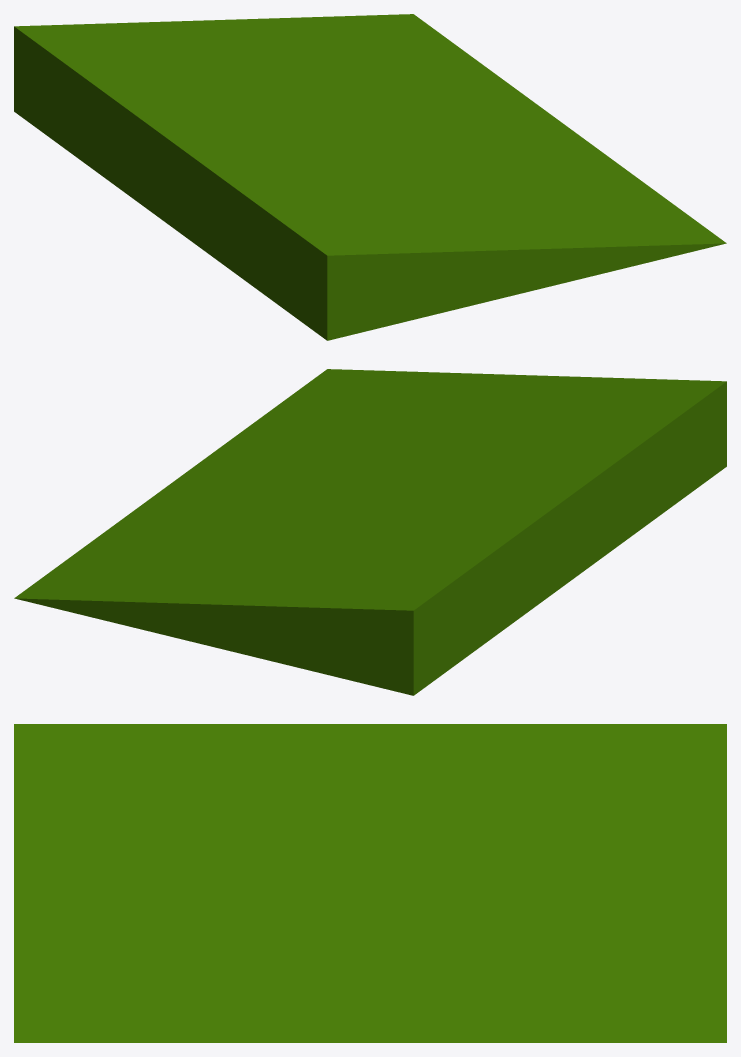
Rendered from slope.fbx.
3 renders of one model, top to bottom at view 1: azimuth 30°, elevation 25°; view 2: azimuth 150°, elevation 25°; view 3: azimuth 270°, elevation 25°, orthographic. The views are drawn at different scales.
Visible parts, largest first — view 1: Plane.003; view 2: Plane.003; view 3: Plane.003.
Boxes of the visible parts, x1,y1,x2,y2 form: Plane.003: (14, 14, 726, 340); Plane.003: (14, 369, 726, 695); Plane.003: (14, 724, 726, 1042).
Bounding box in the file's own units: 1472 × 300 × 1999.
